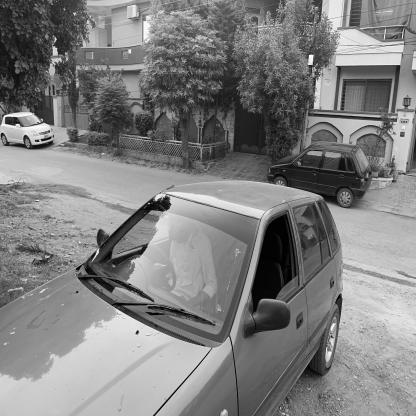no-seatbelt: (164, 215, 190, 284)
